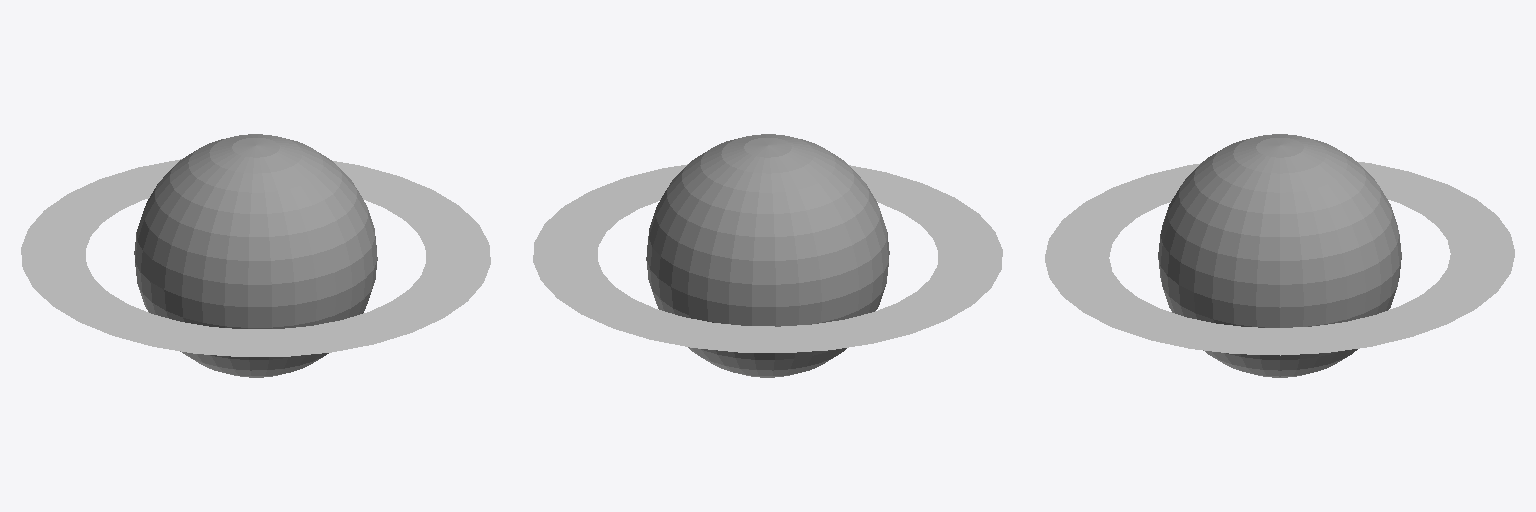
File: neptune.obj
3 renders of one model, left to right at view 1: azimuth 30°, elevation 25°; view 2: azimuth 150°, elevation 25°; view 3: azimuth 270°, elevation 25°, orthographic.
Visible parts, largest first — view 1: Sphere, Circle; view 2: Sphere, Circle; view 3: Sphere, Circle.
Boxes of the visible parts, x1=… form: Sphere: x1=134, y1=134, x2=377, y2=377; Circle: x1=21, y1=159, x2=490, y2=356; Sphere: x1=646, y1=134, x2=889, y2=377; Circle: x1=533, y1=164, x2=1002, y2=352; Sphere: x1=1158, y1=134, x2=1401, y2=377; Circle: x1=1045, y1=162, x2=1514, y2=355.
Bounding box in the file's own units: 3.86 × 2 × 3.86.